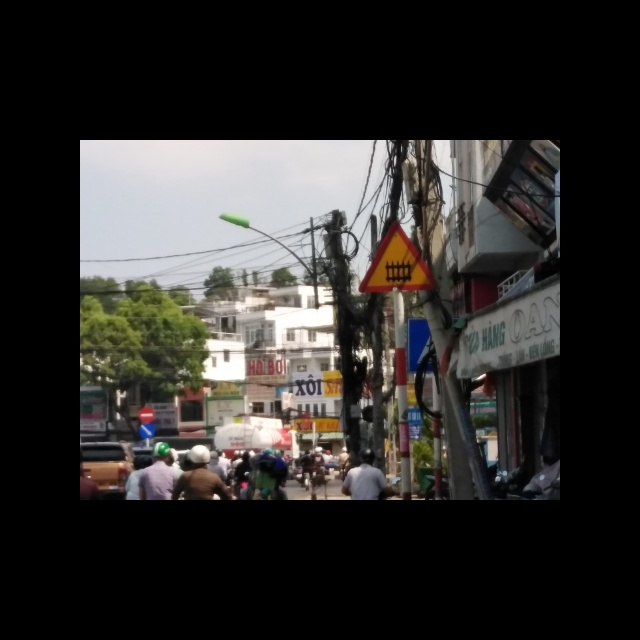Giao nhau với đường sắt có rào chắn: (358, 218, 438, 294)
